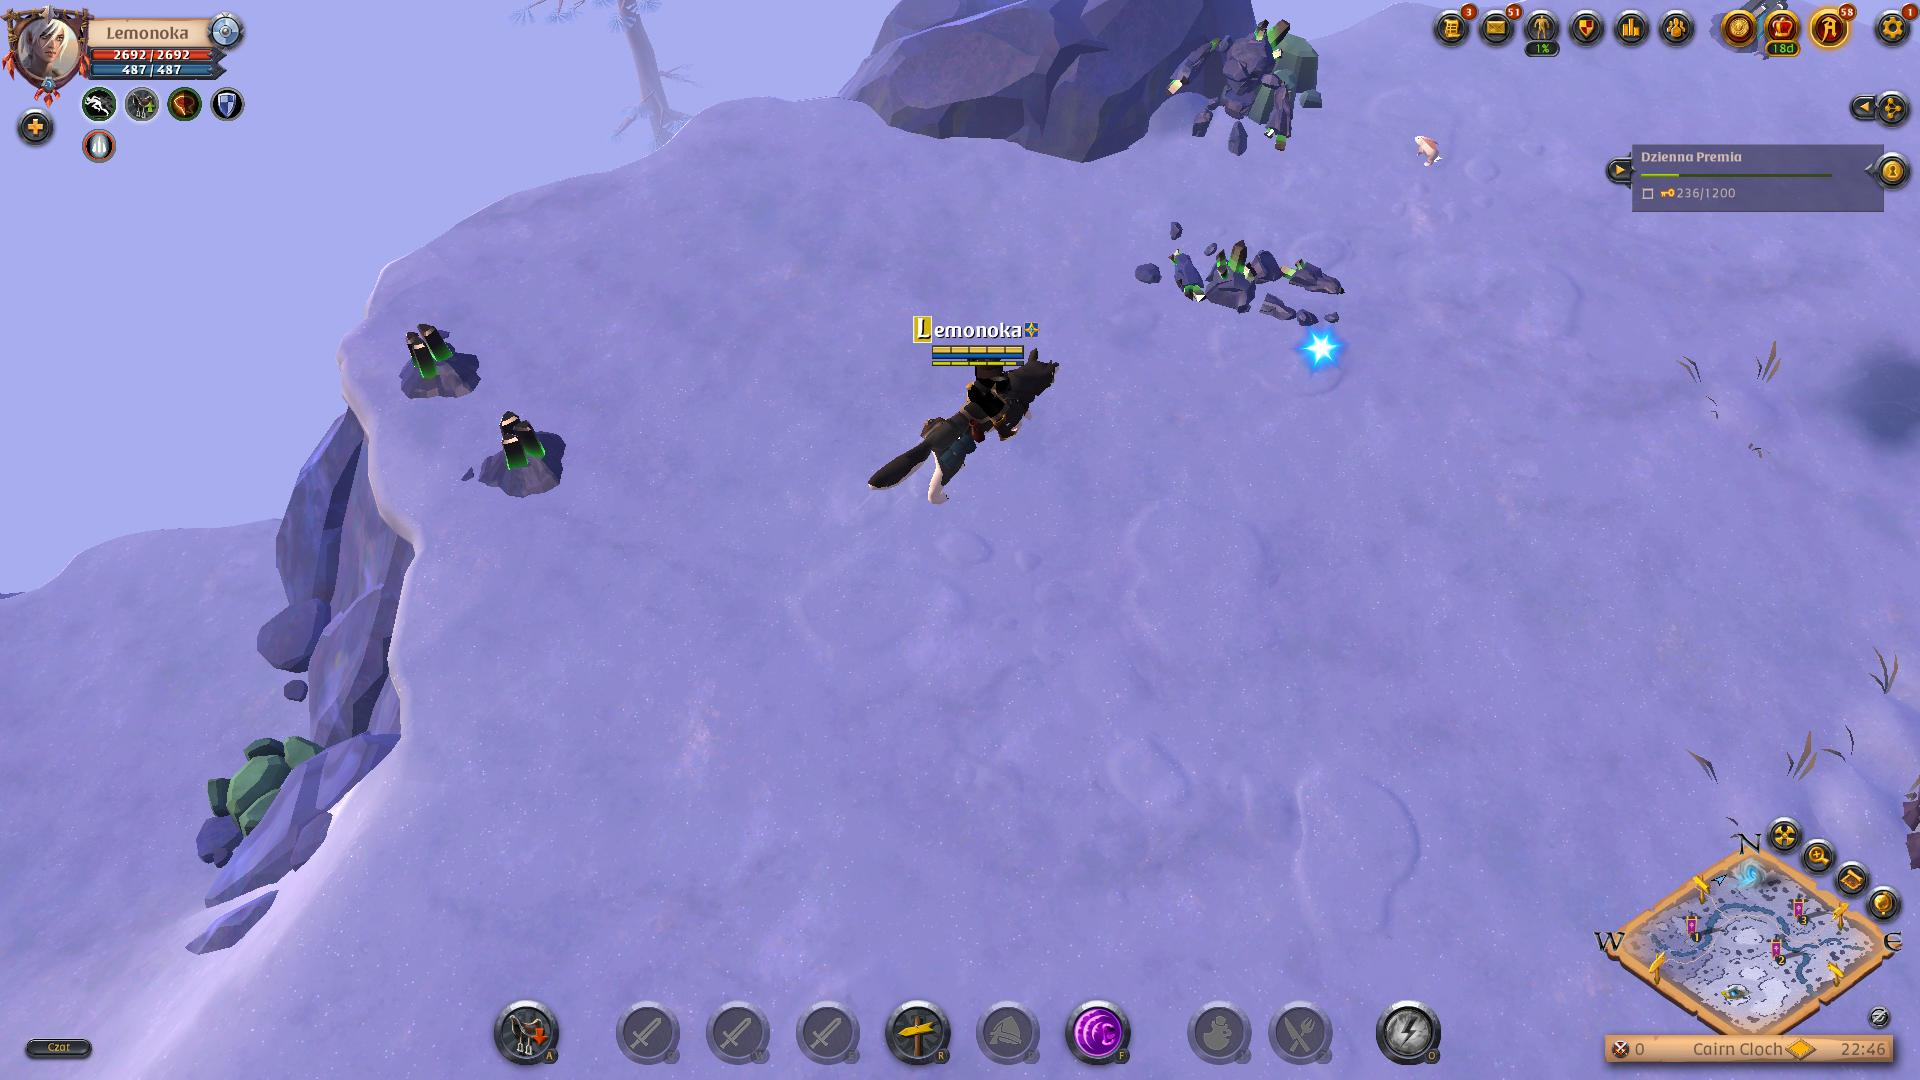ore tier 3: (477, 411, 578, 512), (392, 318, 485, 407)
